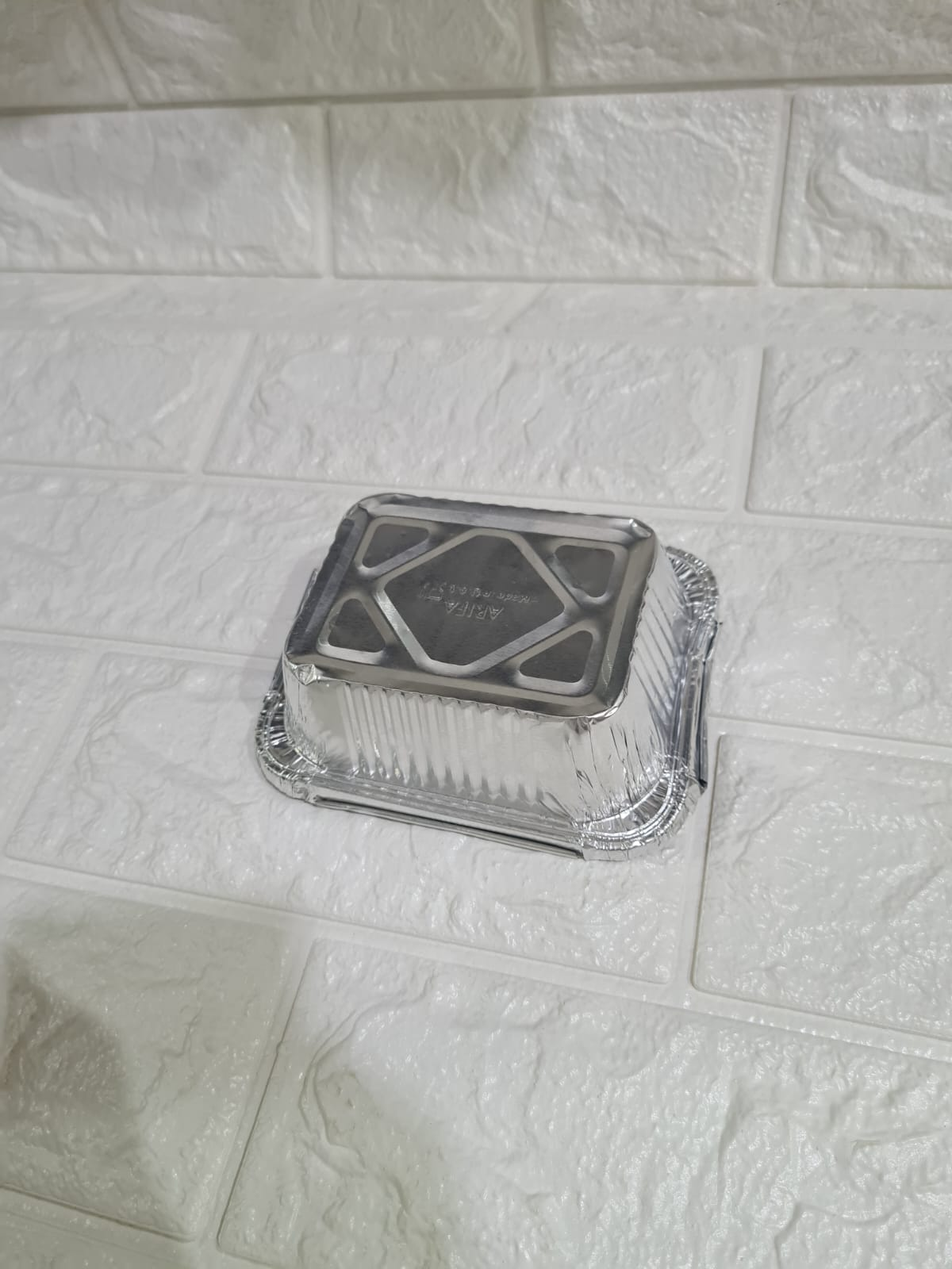Metal: (251, 493, 752, 849)
